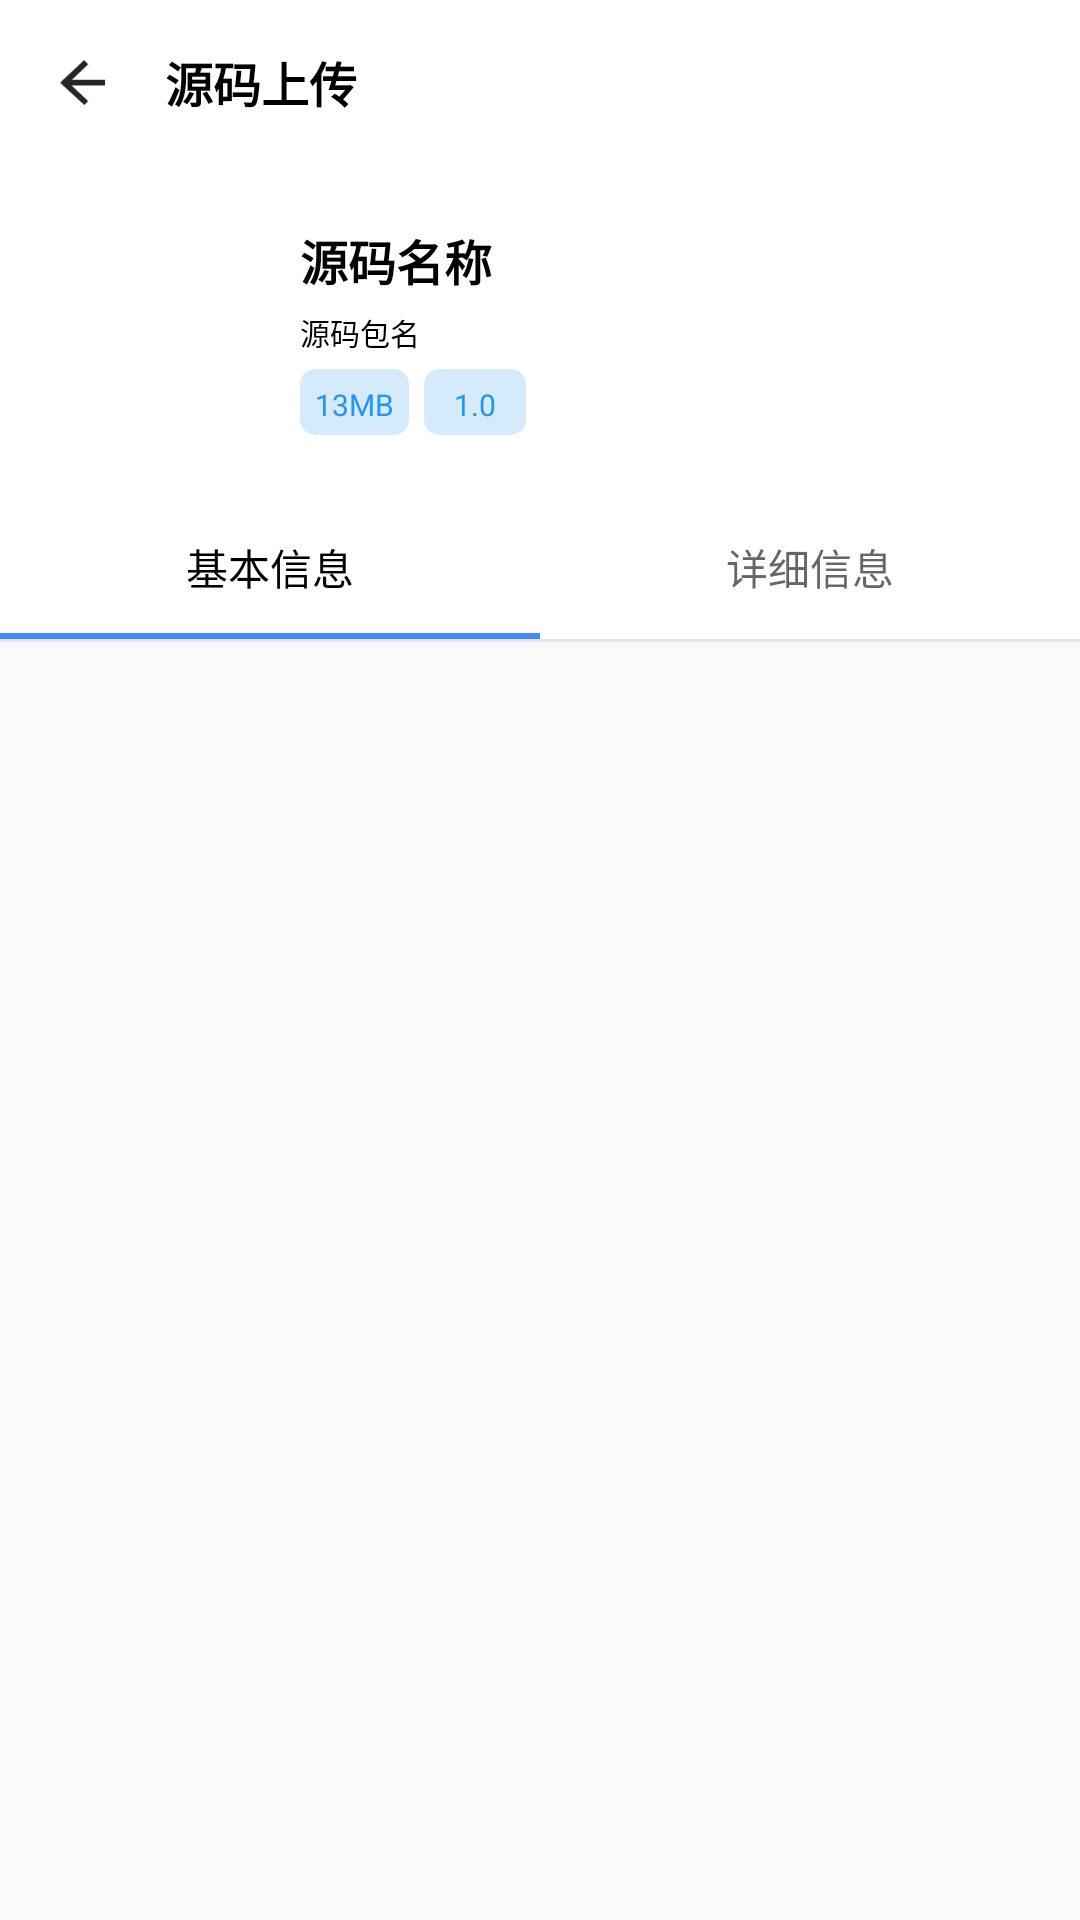

Named icons in this screenshot (1080x1920) and their bounding boxes, (x1, y1, x2, y2):
left: (60, 60, 105, 105)
